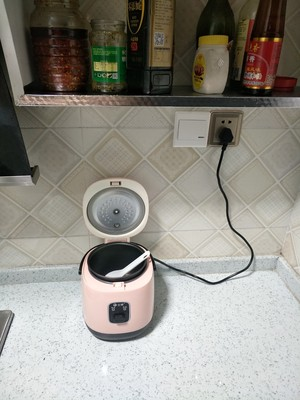switch: (177, 117, 208, 144)
